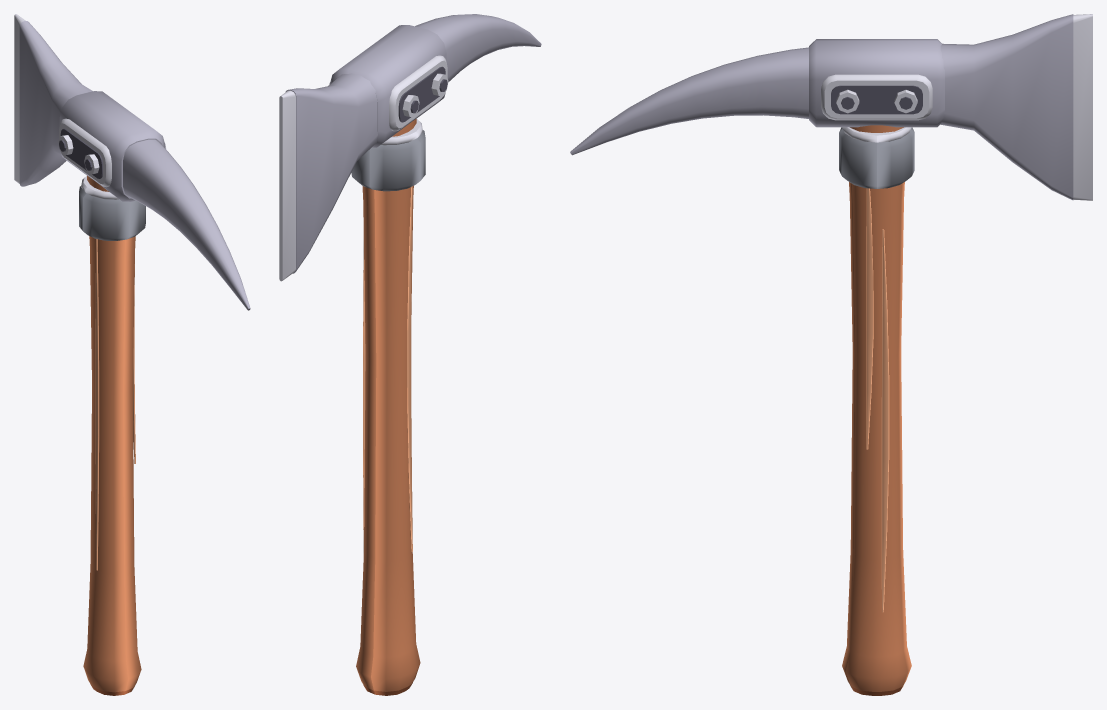
The model's file is pioche_hache.glb.
The picture shows the model from 3 angles, left to right: view 1: azimuth 30°, elevation 25°; view 2: azimuth 150°, elevation 25°; view 3: azimuth 270°, elevation 25°; orthographic projection. The views are drawn at different scales.
Visible parts, largest first — view 1: manche, lame, pic, oeil, bague; view 2: manche, lame, oeil, pic, bague; view 3: manche, lame, oeil, pic, bague.
Boxes of the visible parts, x1,y1,x2,y2 form: manche: (83,176,141,695); lame: (14,14,92,186); pic: (123,139,250,310); oeil: (58,91,166,201); bague: (79,176,145,240); manche: (356,119,420,695); lame: (279,73,377,281); oeil: (329,25,448,147); pic: (415,14,541,81); bague: (351,119,425,191); manche: (842,125,911,695); lame: (940,14,1092,200); oeil: (809,39,944,127); pic: (570,47,808,155); bague: (839,127,914,188).
Size of the model in its own units: 0.1 by 0.7645 by 0.5386.
